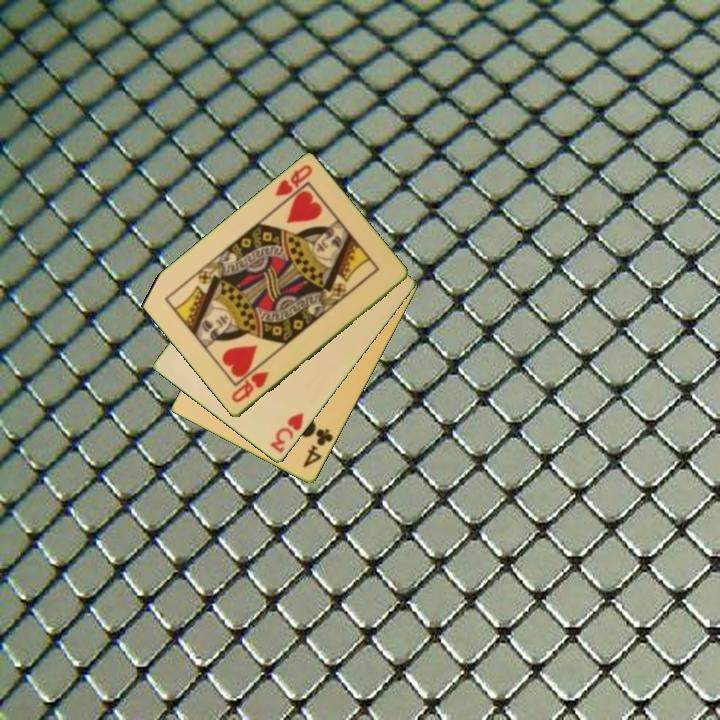3h: (266, 409, 307, 456)
4c: (299, 425, 336, 471)
Qh: (271, 162, 315, 209), (227, 368, 272, 406)
